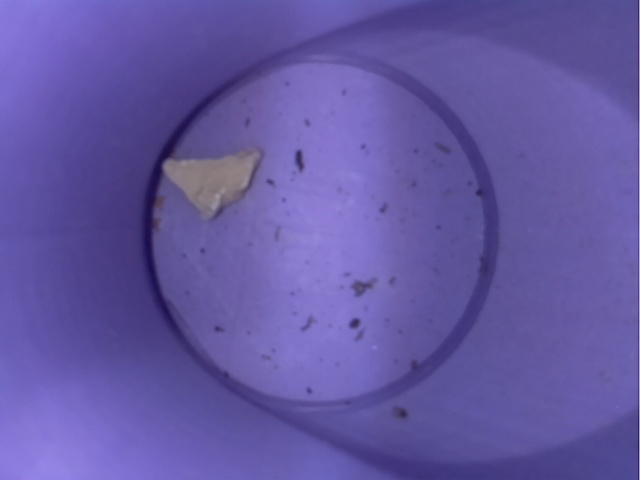caillou: (149, 127, 276, 223)
